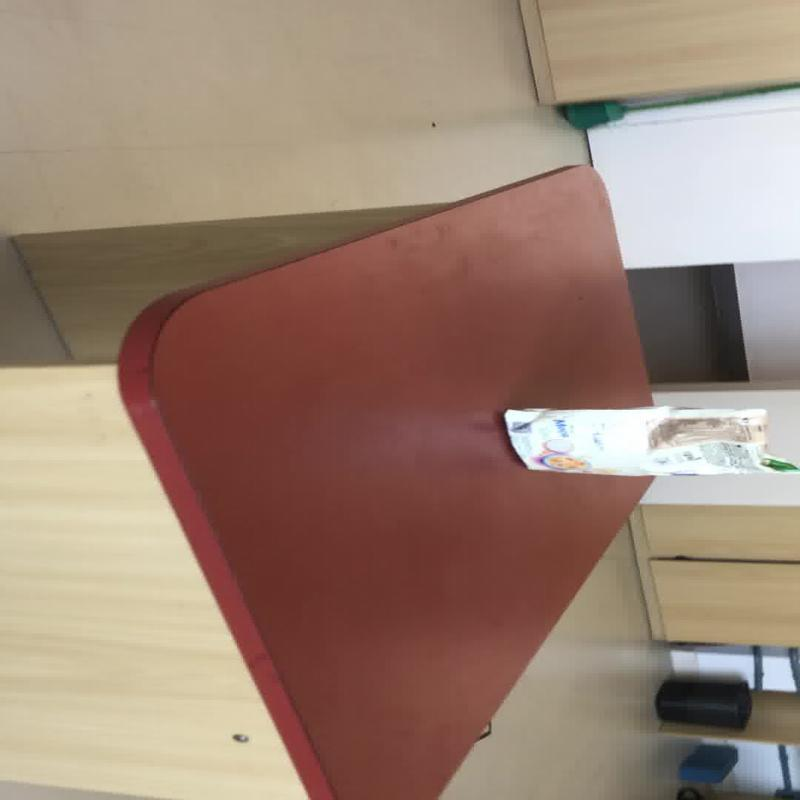corn flakes: (501, 404, 795, 475)
